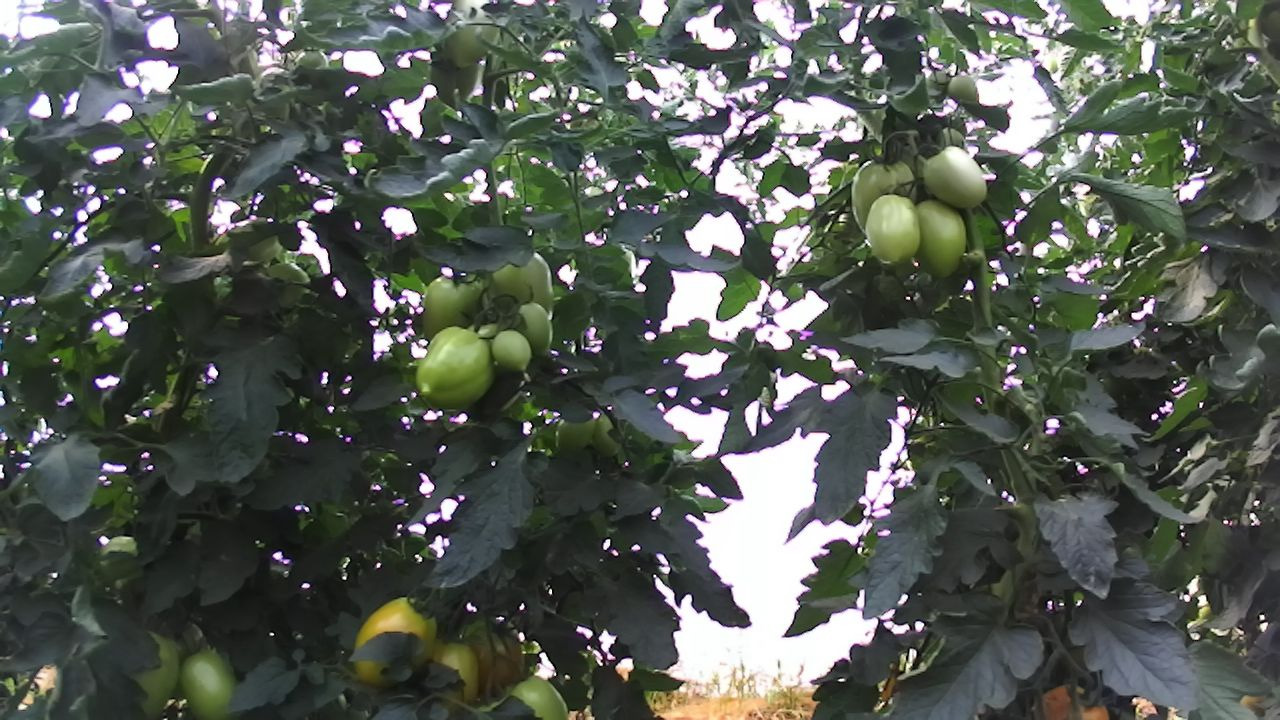tomato: (346, 583, 447, 696), (413, 320, 498, 417), (845, 149, 921, 246), (483, 246, 563, 330), (417, 263, 487, 348), (912, 193, 970, 285), (918, 140, 991, 212), (177, 644, 246, 720), (863, 190, 922, 267), (510, 297, 559, 360), (487, 327, 532, 381), (946, 73, 980, 106), (475, 317, 501, 345)
